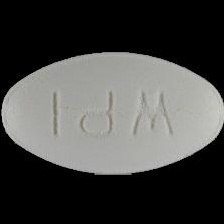0591-2367: (0, 0, 224, 224)
